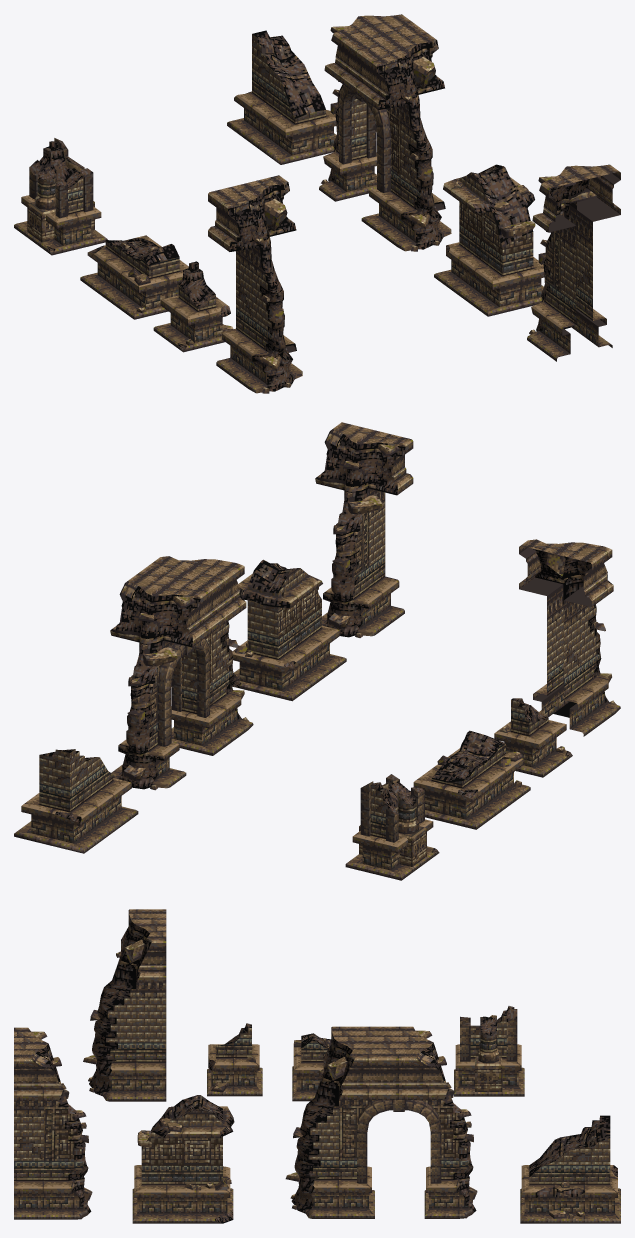
Rendered from EnvMdrMD_Ruins_A_Debris_Wall_A.FBX.
3 renders of one model, top to bottom at view 1: azimuth 30°, elevation 25°; view 2: azimuth 150°, elevation 25°; view 3: azimuth 270°, elevation 25°, orthographic. The views are drawn at different scales.
Parts seen in each view (by area): view 1: EnvMdrMD_Ruins_A_Debris_Wall_F, EnvMdrMD_Ruins_A_Debris_Wall_G_Right, EnvMdrMD_Ruins_A_Debris_Wall_D, EnvMdrMD_Ruins_A_Debris_Wall_G_Left, EnvMdrMD_Ruins_A_Debris_Wall_B, EnvMdrMD_Ruins_A_Debris_Wall_E, EnvMdrMD_Ruins_A_Debris_Wall_A, EnvMdrMD_Ruins_A_Debris_Wall_C; view 2: EnvMdrMD_Ruins_A_Debris_Wall_F, EnvMdrMD_Ruins_A_Debris_Wall_G_Left, EnvMdrMD_Ruins_A_Debris_Wall_G_Right, EnvMdrMD_Ruins_A_Debris_Wall_D, EnvMdrMD_Ruins_A_Debris_Wall_B, EnvMdrMD_Ruins_A_Debris_Wall_A, EnvMdrMD_Ruins_A_Debris_Wall_E, EnvMdrMD_Ruins_A_Debris_Wall_C; view 3: EnvMdrMD_Ruins_A_Debris_Wall_F, EnvMdrMD_Ruins_A_Debris_Wall_G_Right, EnvMdrMD_Ruins_A_Debris_Wall_G_Left, EnvMdrMD_Ruins_A_Debris_Wall_D, EnvMdrMD_Ruins_A_Debris_Wall_B, EnvMdrMD_Ruins_A_Debris_Wall_E, EnvMdrMD_Ruins_A_Debris_Wall_C, EnvMdrMD_Ruins_A_Debris_Wall_A.
Boxes of the visible parts, left/top/right/bottom form: EnvMdrMD_Ruins_A_Debris_Wall_F: left=319, top=14, right=451, bottom=251; EnvMdrMD_Ruins_A_Debris_Wall_G_Right: left=208, top=175, right=302, bottom=393; EnvMdrMD_Ruins_A_Debris_Wall_D: left=434, top=164, right=544, bottom=316; EnvMdrMD_Ruins_A_Debris_Wall_G_Left: left=527, top=164, right=620, bottom=361; EnvMdrMD_Ruins_A_Debris_Wall_B: left=227, top=30, right=336, bottom=164; EnvMdrMD_Ruins_A_Debris_Wall_E: left=14, top=138, right=107, bottom=255; EnvMdrMD_Ruins_A_Debris_Wall_A: left=80, top=235, right=188, bottom=319; EnvMdrMD_Ruins_A_Debris_Wall_C: left=153, top=261, right=233, bottom=352; EnvMdrMD_Ruins_A_Debris_Wall_F: left=110, top=556, right=253, bottom=790; EnvMdrMD_Ruins_A_Debris_Wall_G_Left: left=315, top=422, right=413, bottom=637; EnvMdrMD_Ruins_A_Debris_Wall_G_Right: left=519, top=539, right=620, bottom=736; EnvMdrMD_Ruins_A_Debris_Wall_D: left=231, top=559, right=346, bottom=701; EnvMdrMD_Ruins_A_Debris_Wall_B: left=14, top=749, right=138, bottom=853; EnvMdrMD_Ruins_A_Debris_Wall_A: left=413, top=730, right=530, bottom=829; EnvMdrMD_Ruins_A_Debris_Wall_E: left=345, top=774, right=439, bottom=880; EnvMdrMD_Ruins_A_Debris_Wall_C: left=494, top=698, right=572, bottom=777; EnvMdrMD_Ruins_A_Debris_Wall_F: left=285, top=1026, right=477, bottom=1218; EnvMdrMD_Ruins_A_Debris_Wall_G_Right: left=83, top=909, right=166, bottom=1101; EnvMdrMD_Ruins_A_Debris_Wall_G_Left: left=14, top=1027, right=92, bottom=1219; EnvMdrMD_Ruins_A_Debris_Wall_D: left=132, top=1095, right=234, bottom=1223; EnvMdrMD_Ruins_A_Debris_Wall_B: left=520, top=1115, right=620, bottom=1223; EnvMdrMD_Ruins_A_Debris_Wall_E: left=454, top=1006, right=524, bottom=1096; EnvMdrMD_Ruins_A_Debris_Wall_C: left=207, top=1023, right=262, bottom=1096; EnvMdrMD_Ruins_A_Debris_Wall_A: left=292, top=1033, right=331, bottom=1101.
Size of the model in its own units: 1213 by 600 by 2017.
1 material, 1 textured.
